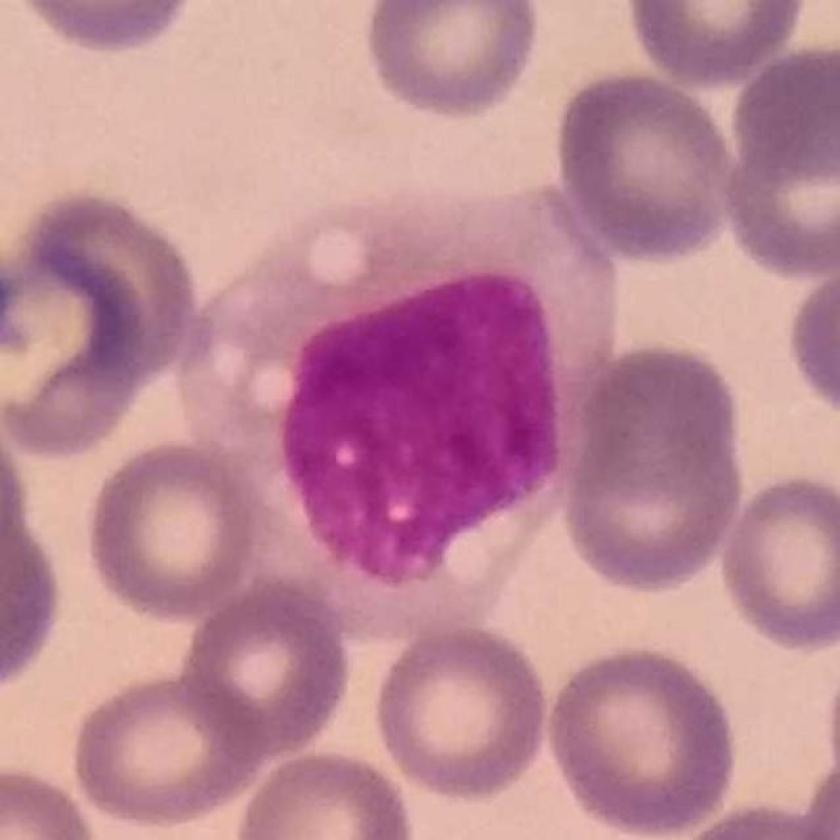monocyte: (171, 174, 633, 651)
